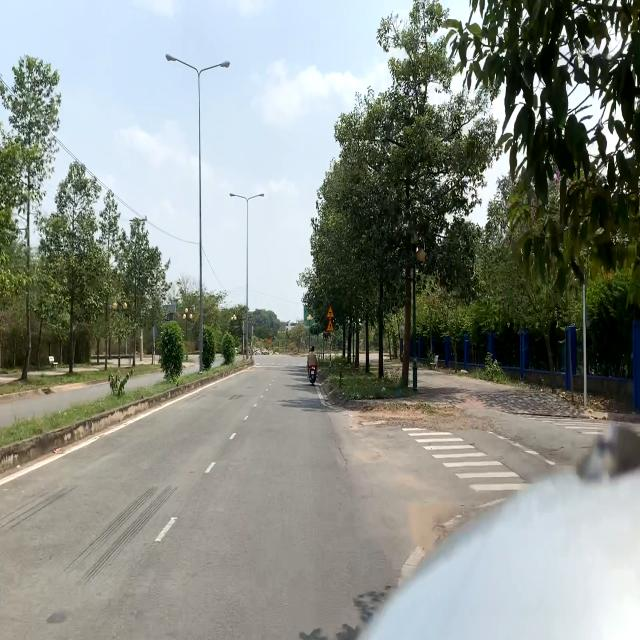W.205d: (326, 306, 334, 318)
W.224: (326, 318, 334, 332)
